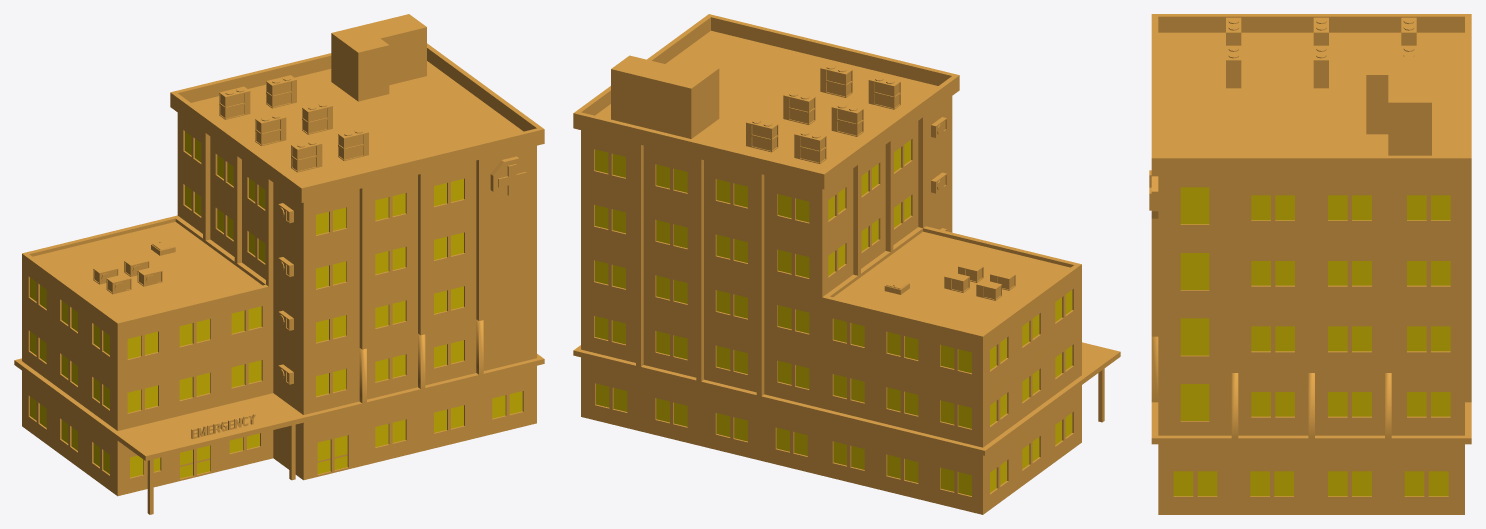
The model's file is Building_18.fbx.
3 renders of one model, left to right at view 1: azimuth 30°, elevation 25°; view 2: azimuth 150°, elevation 25°; view 3: azimuth 270°, elevation 25°, orthographic. The views are drawn at different scales.
Visible parts, largest first — view 1: building-hospital.001, building-hospital, building-hospital.002; view 2: building-hospital, building-hospital.001, building-hospital.002; view 3: building-hospital.002, building-hospital.001, building-hospital.
Boxes of the visible parts, x1,y1,x2,y2 form: building-hospital.001: (14, 304, 544, 514); building-hospital: (22, 162, 536, 377); building-hospital.002: (170, 14, 544, 253); building-hospital: (581, 147, 1081, 391); building-hospital.001: (573, 294, 1120, 514); building-hospital.002: (573, 14, 959, 241); building-hospital.002: (1149, 14, 1471, 241); building-hospital.001: (1151, 336, 1471, 514); building-hospital: (1151, 205, 1471, 372).
Size of the model in its own units: 14.6 by 11.58 by 8.38.
